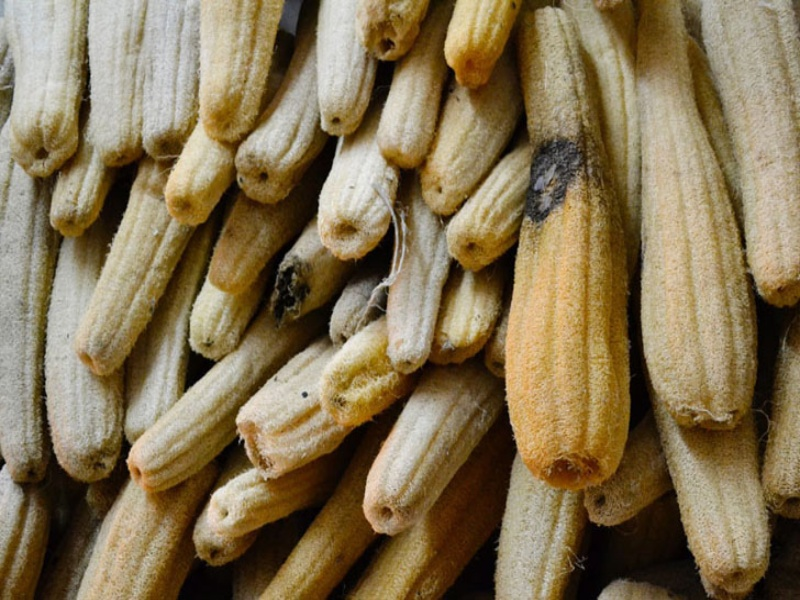Corn_BioD: (1, 1, 798, 597)
